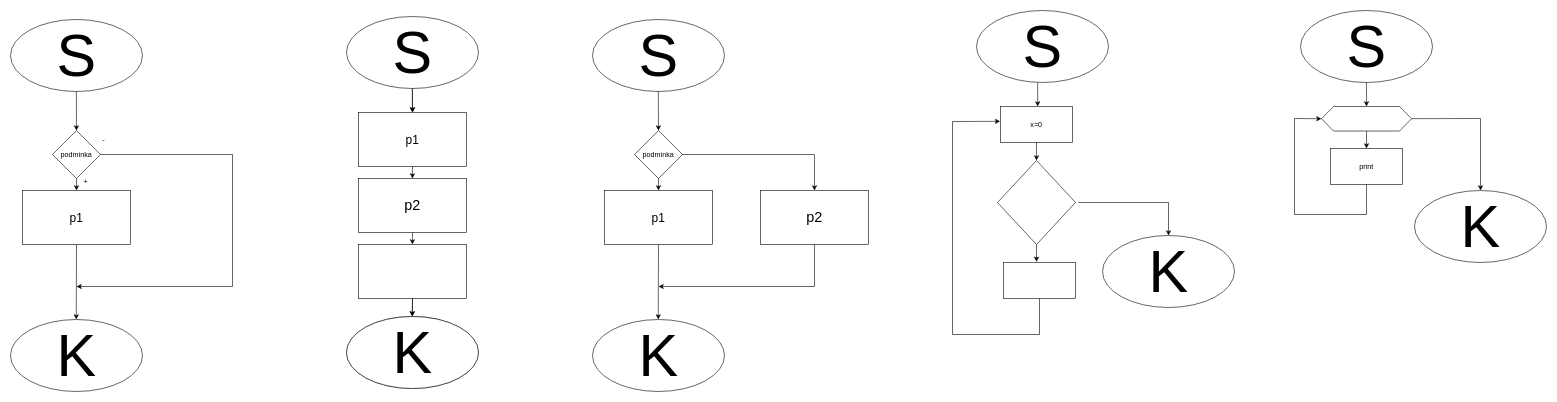
The diagram is 1557 pixels wide and 402 high, and some of its shapes have lost their labels. Each missing label, with the box of its shape:
i=0,1,2: (1321, 106, 1412, 131)
p3: (358, 244, 466, 298)
print x=x+1: (1003, 262, 1076, 298)
x<10: (997, 160, 1076, 244)
